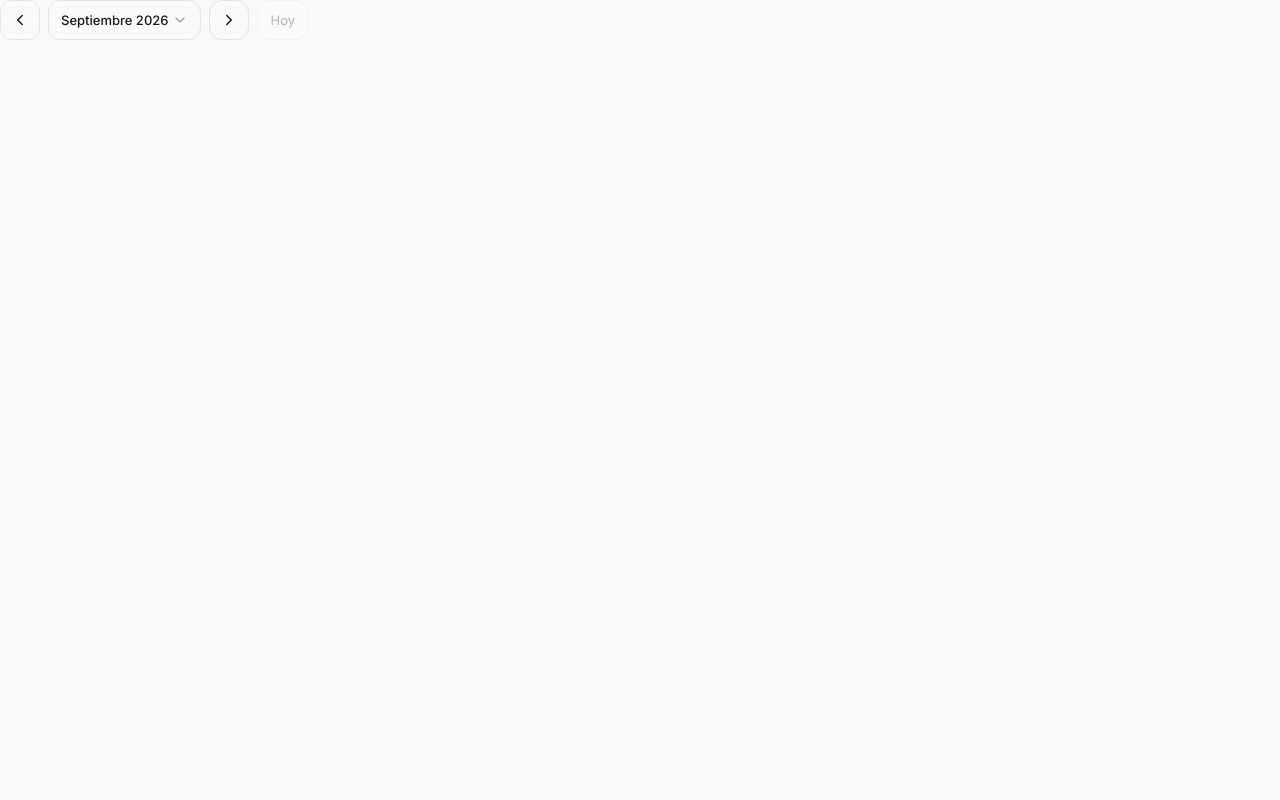
Test: MonthSelector — marked months › marks the months that have pending payments inside the picker
The image size is (1280, 800).
Click the button with aria-label "elegir mes": (125, 20) [48, 0, 202, 40]
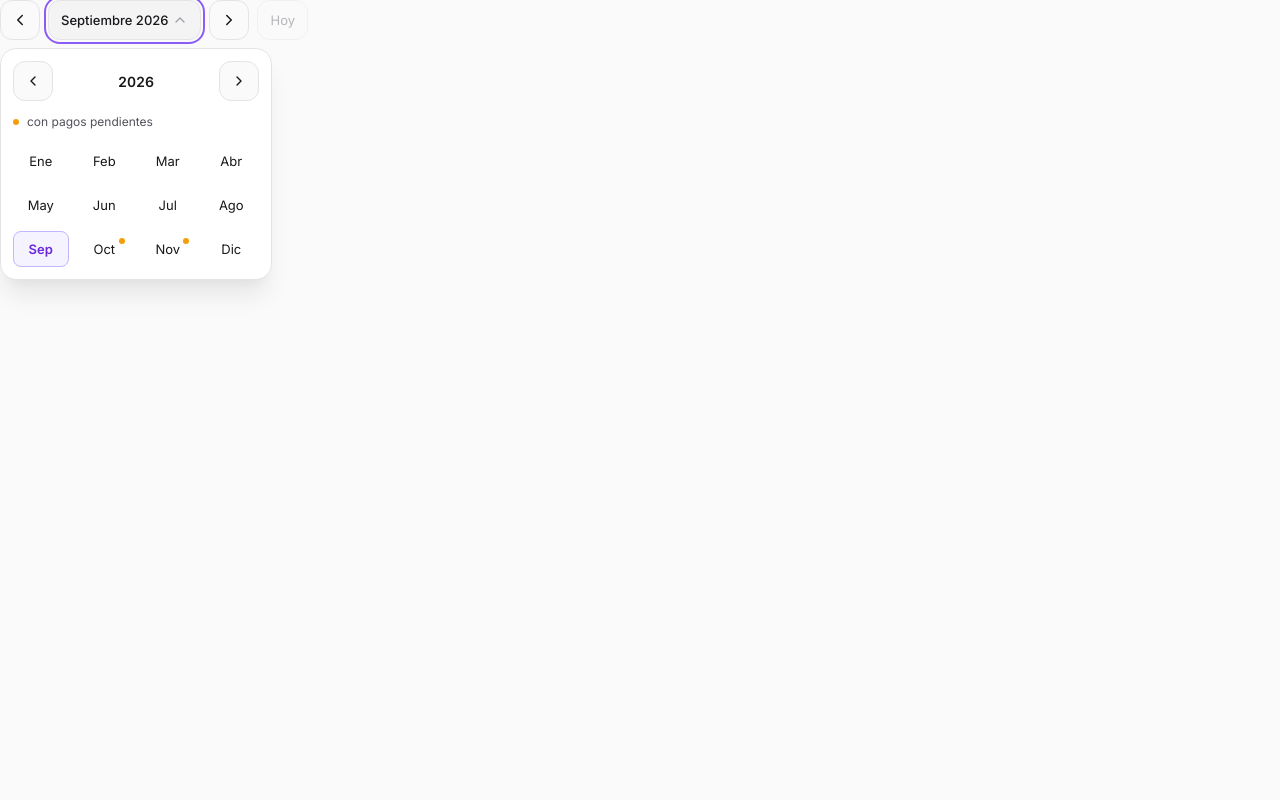
Now the button with aria-label "Oct (con pendientes)" is shown, box [76, 231, 132, 267]
Now the button with aria-label "Nov (con pendientes)" is shown, box [140, 231, 196, 267]
Now the button "Sep" is shown, box [13, 231, 68, 267]
